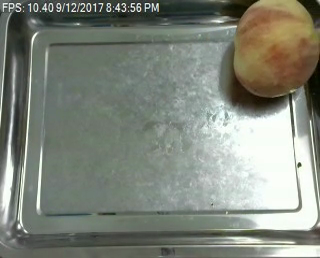Peach: (232, 0, 318, 98)
